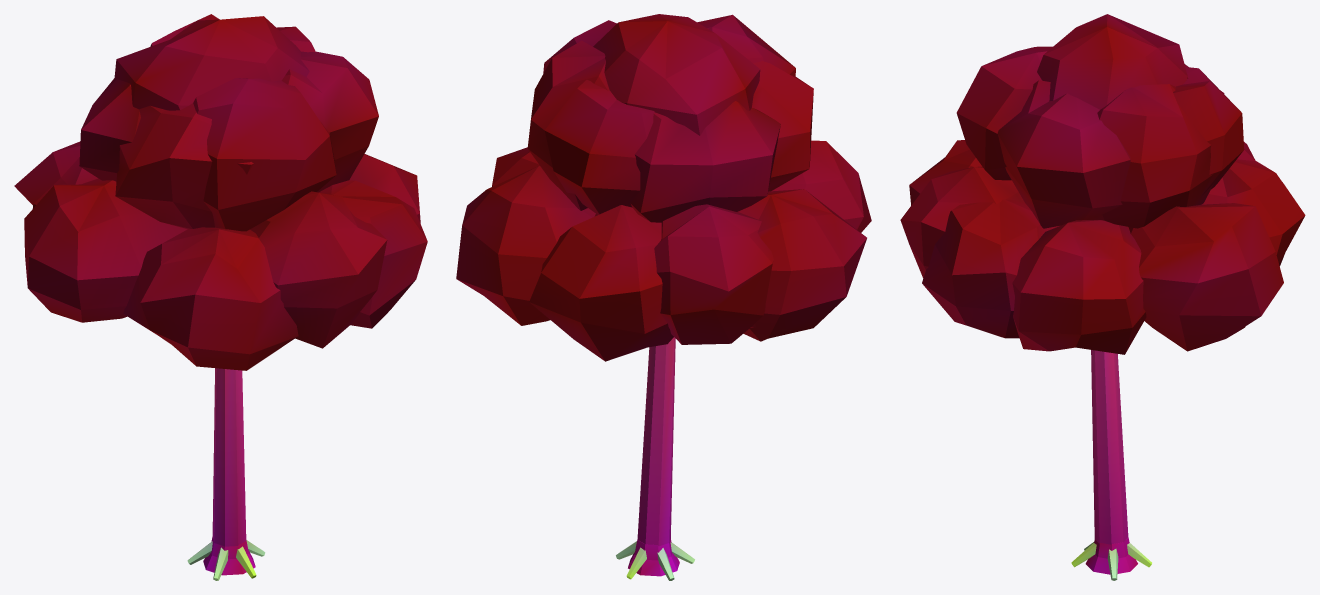
File: Tree_Beech_Tall_02.fbx
3 views of the same model, side by side, from view 1: azimuth 30°, elevation 25°; view 2: azimuth 150°, elevation 25°; view 3: azimuth 270°, elevation 25° (orthographic). The views are drawn at different scales.
Visible parts, largest first — view 1: Tree_Beech_Tall_02; view 2: Tree_Beech_Tall_02; view 3: Tree_Beech_Tall_02.
Boxes of the visible parts, x1,y1,x2,y2 form: Tree_Beech_Tall_02: (14,14,427,580); Tree_Beech_Tall_02: (456,14,871,580); Tree_Beech_Tall_02: (900,14,1305,580).
Size of the model in its own units: 8.77 by 12.44 by 8.57.
